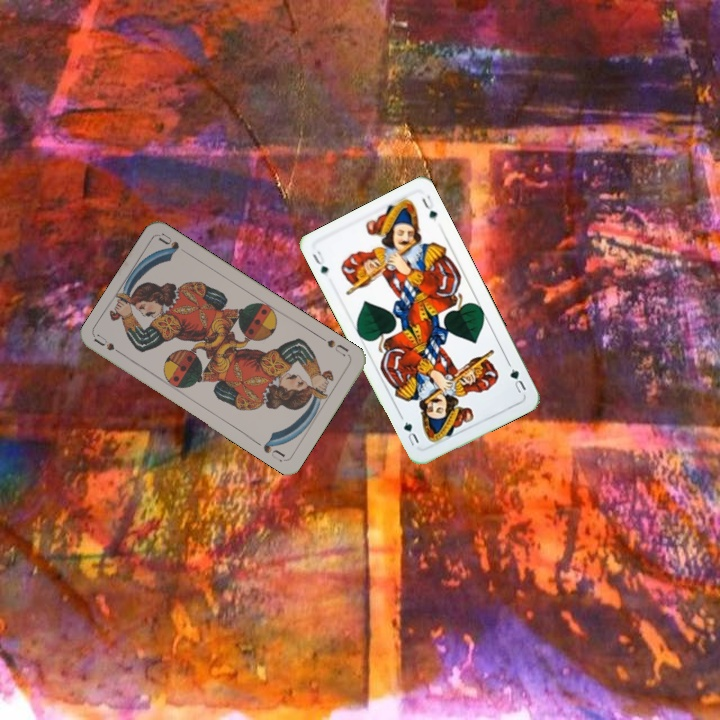GU: (504, 359, 529, 396), (308, 247, 331, 277)
SU: (91, 331, 129, 360), (316, 333, 351, 359)
